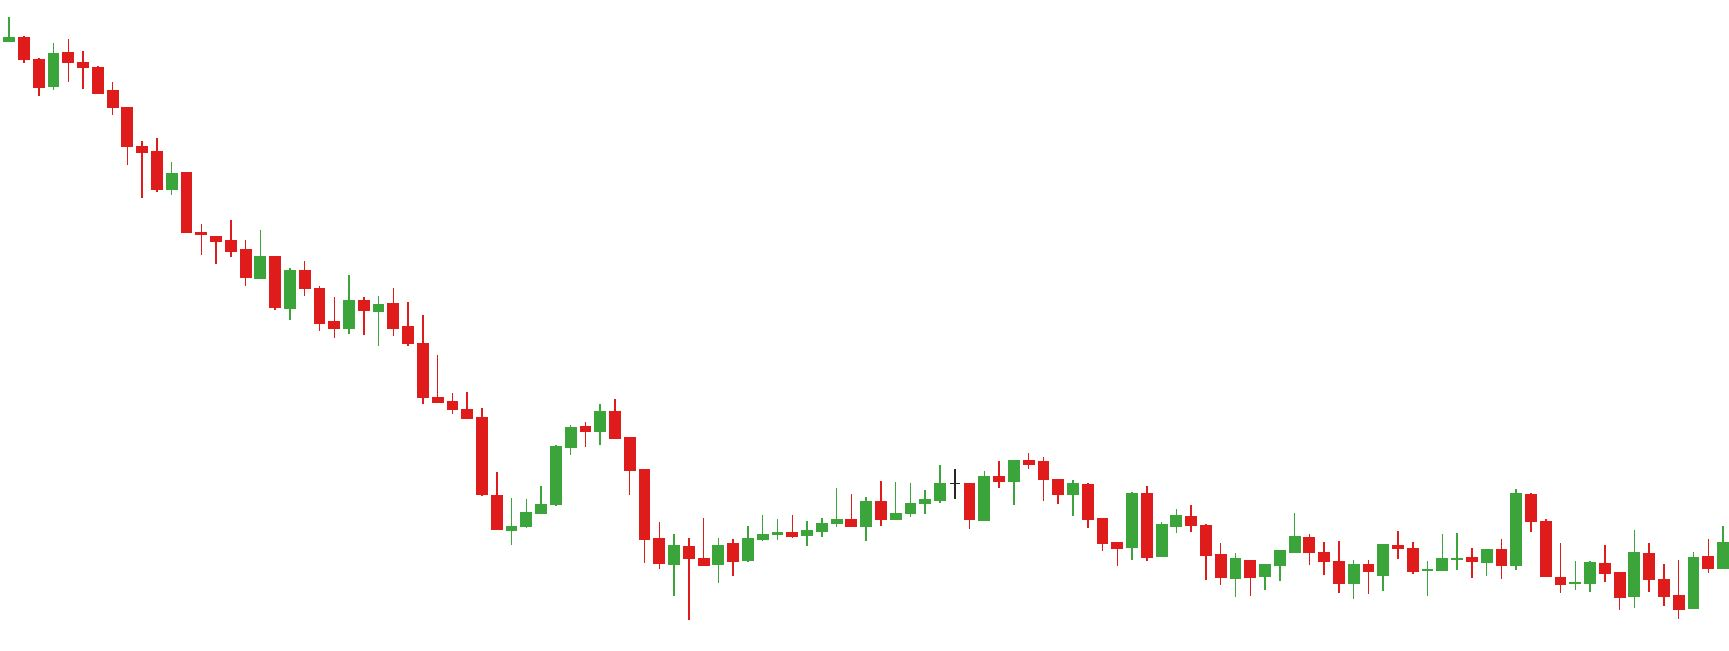sell: (1390, 485, 1540, 561)
